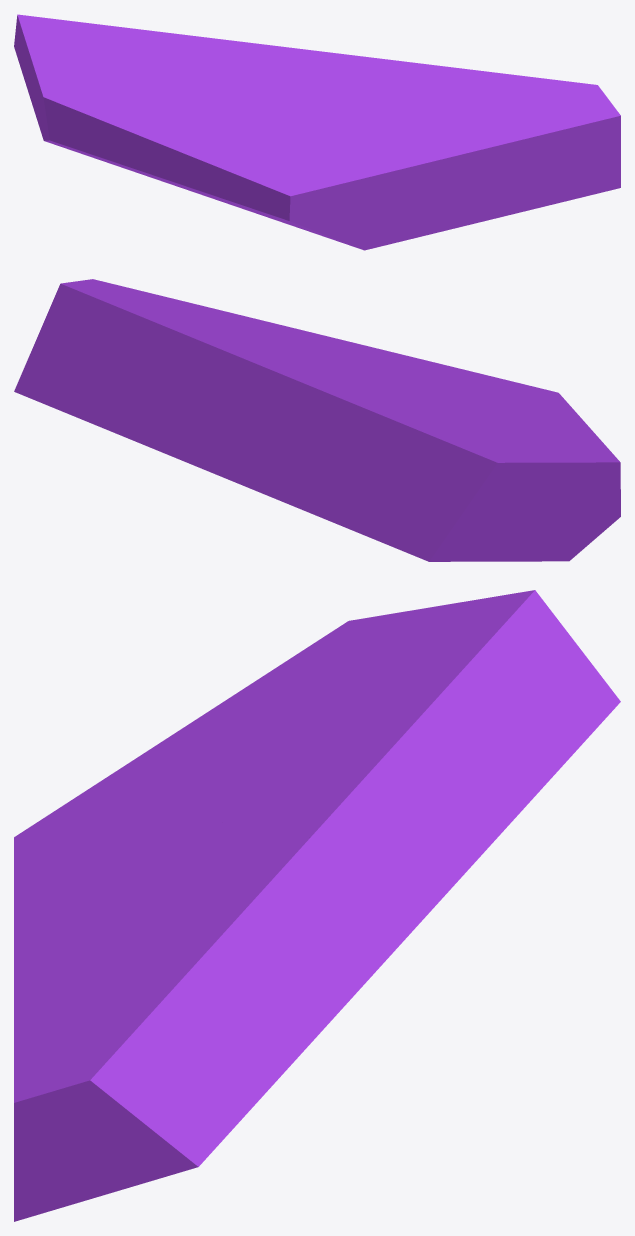
Rendered from Window_150_6_chunks.fbx.
3 views of the same model, one above another, from view 1: azimuth 30°, elevation 25°; view 2: azimuth 150°, elevation 25°; view 3: azimuth 270°, elevation 25° (orthographic). The views are drawn at different scales.
Visible parts, largest first — view 1: Window_150_6_0, Window_150_6_3, Window_150_6_2, Window_150_6_1; view 2: Window_150_6_0, Window_150_6_3, Window_150_6_1, Window_150_6_2; view 3: Window_150_6_3, Window_150_6_0, Window_150_6_1, Window_150_6_2.
Boxes of the visible parts, x1=… form: Window_150_6_0: x1=14, y1=14, x2=305, y2=209; Window_150_6_3: x1=275, y1=50, x2=620, y2=204; Window_150_6_2: x1=235, y1=144, x2=551, y2=250; Window_150_6_1: x1=218, y1=39, x2=310, y2=72; Window_150_6_0: x1=346, y1=383, x2=620, y2=561; Window_150_6_3: x1=14, y1=279, x2=450, y2=420; Window_150_6_1: x1=86, y1=372, x2=389, y2=545; Window_150_6_2: x1=412, y1=357, x2=561, y2=395; Window_150_6_3: x1=14, y1=810, x2=309, y2=1221; Window_150_6_0: x1=30, y1=590, x2=620, y2=844; Window_150_6_1: x1=271, y1=746, x2=579, y2=1085; Window_150_6_2: x1=14, y1=827, x2=114, y2=920.
Size of the model in its own units: 691 by 231 by 463.
